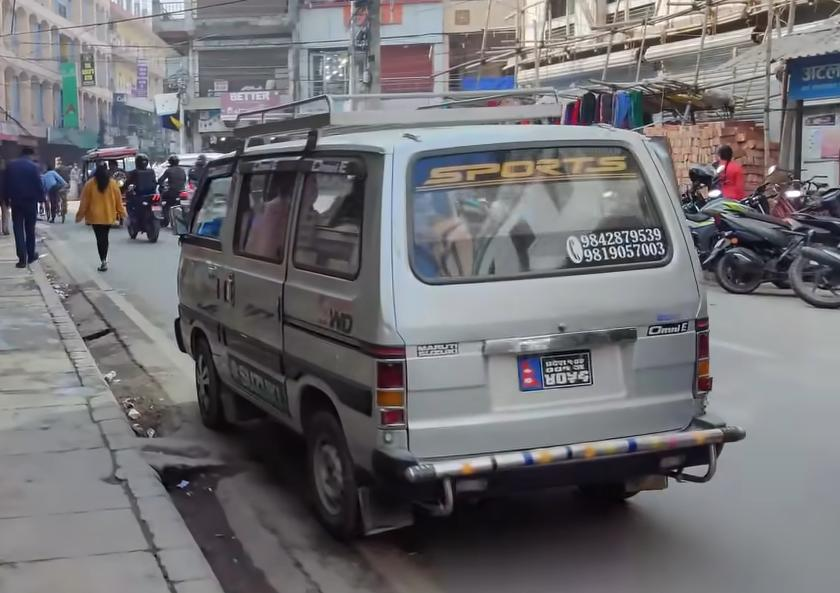bike: (772, 204, 840, 313)
van: (180, 85, 753, 536)
